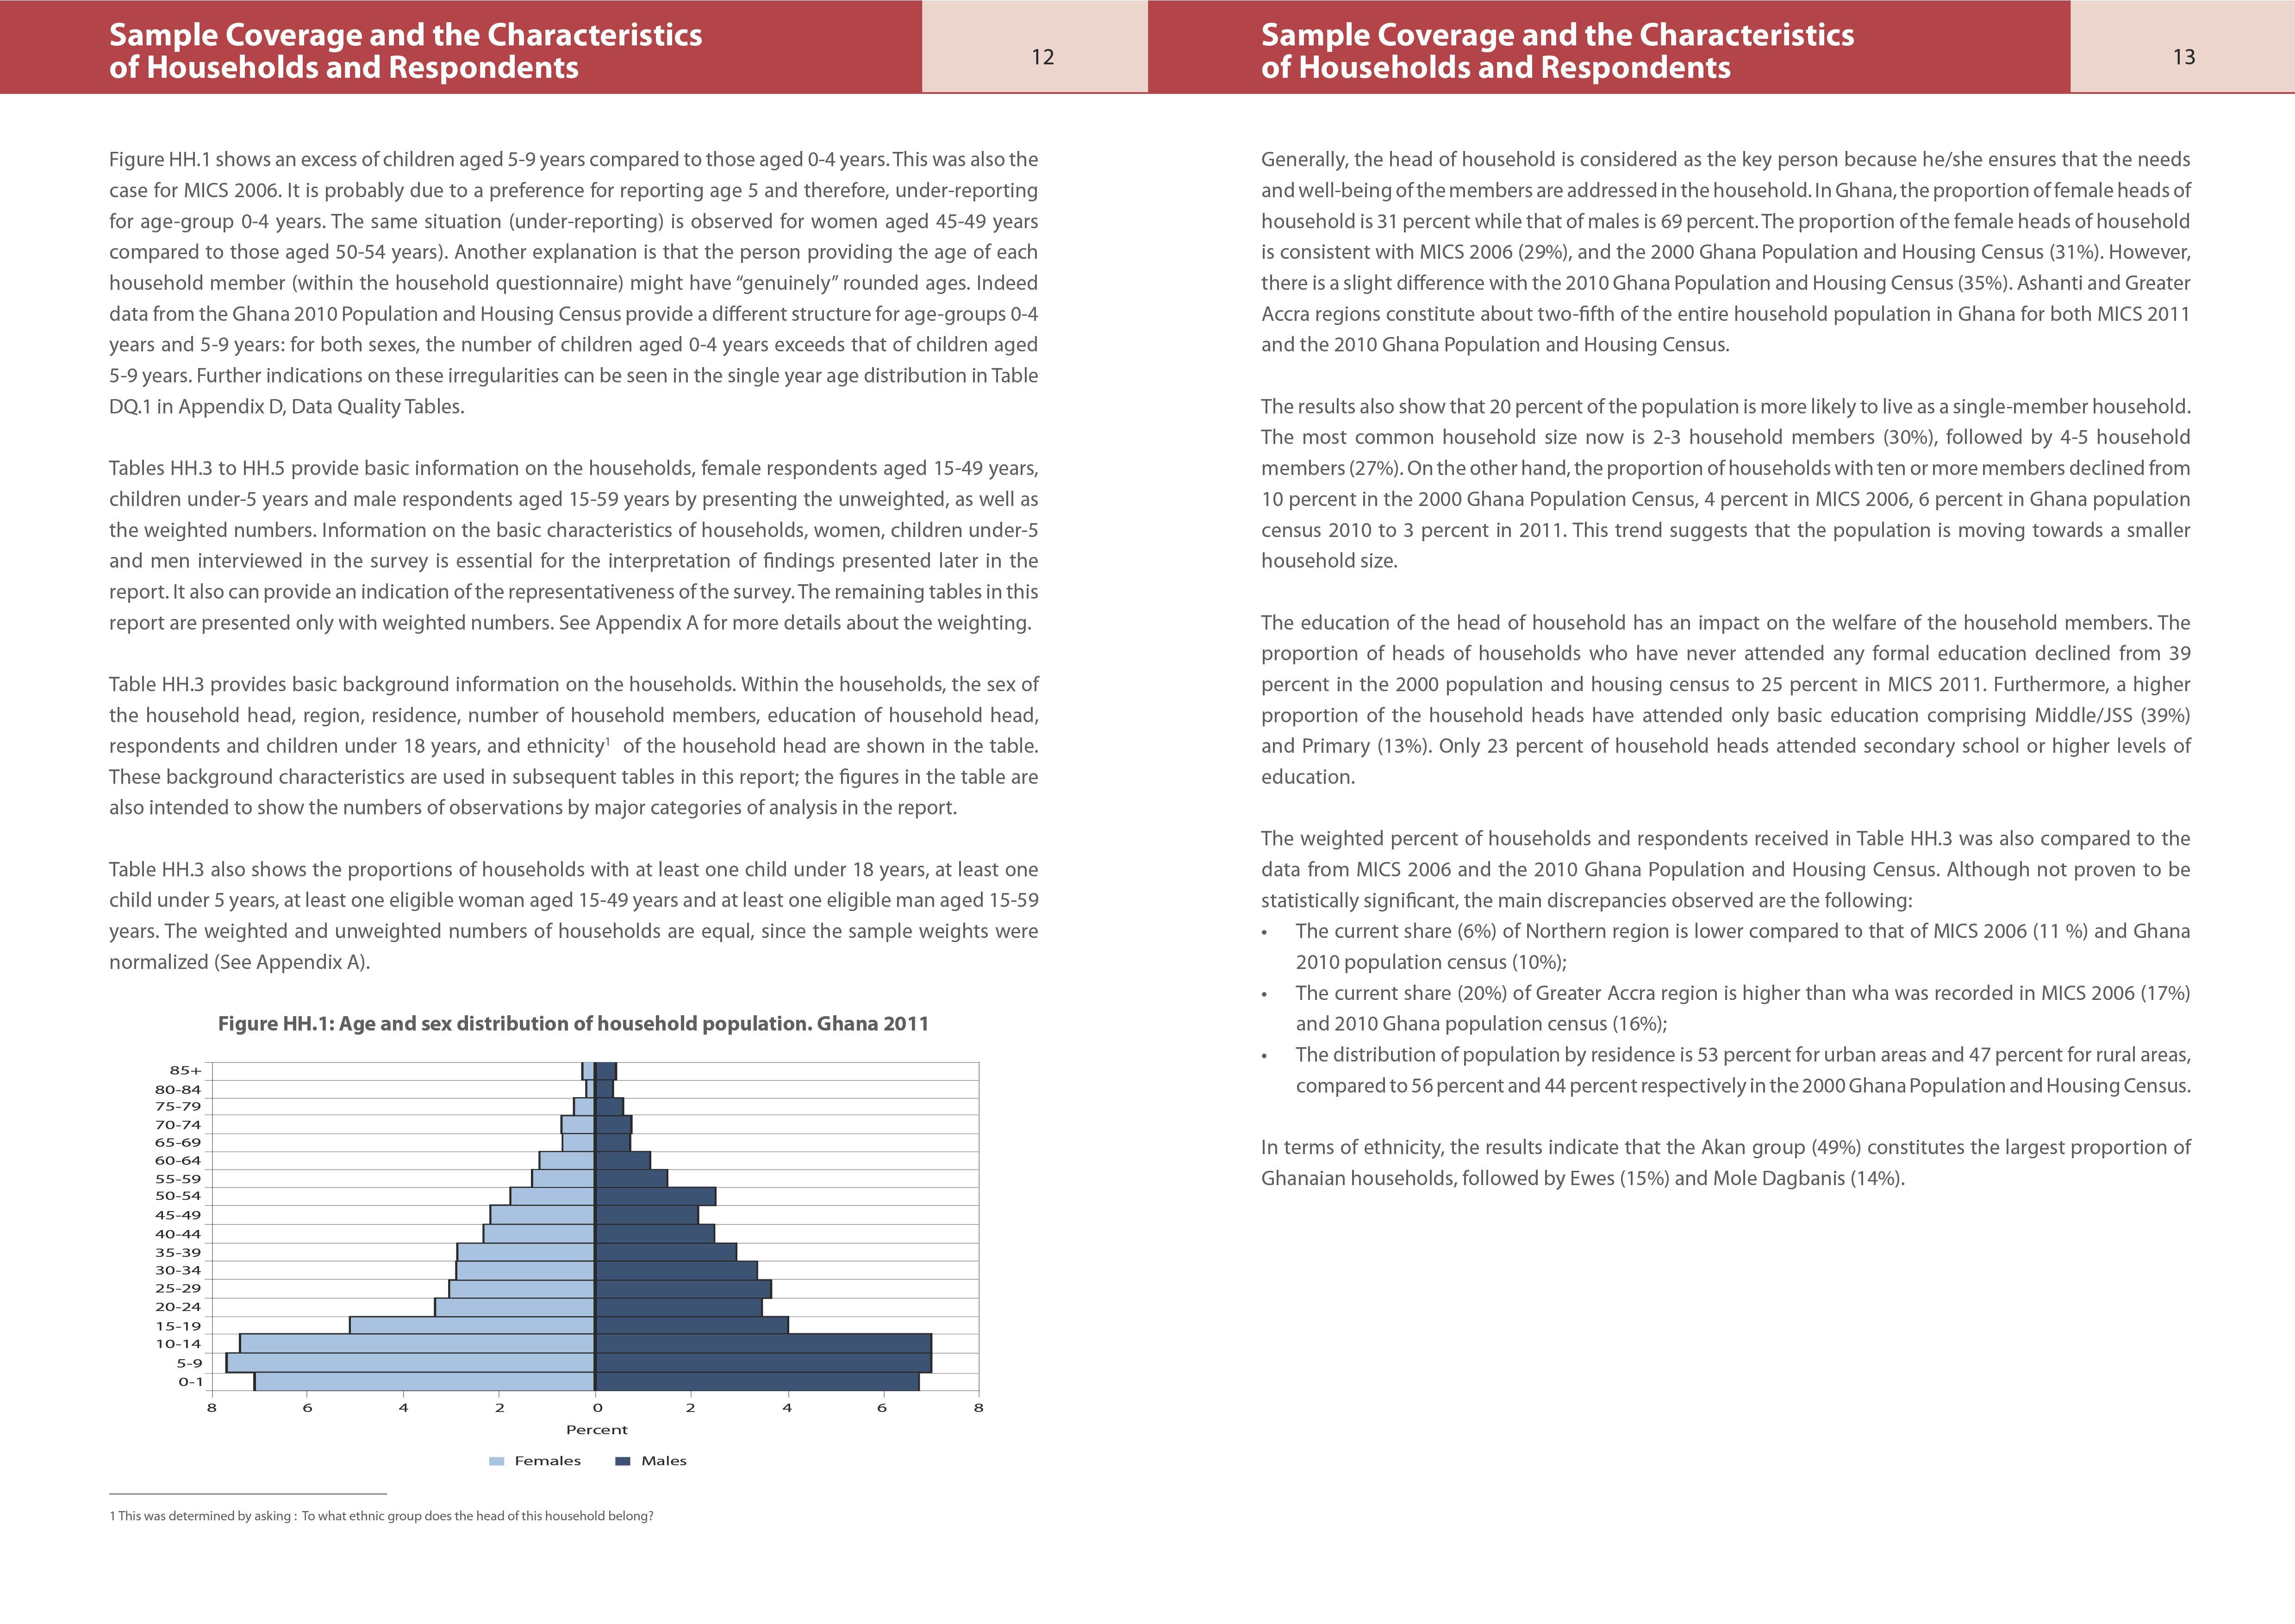caption: (207, 1005, 938, 1048)
figure: (141, 1065, 998, 1425)
list: (1255, 914, 2212, 1116)
section: (104, 2, 715, 93), (1246, 18, 1843, 93)
text: (102, 149, 1046, 420), (1253, 156, 2207, 359), (1253, 606, 2198, 801), (1249, 388, 2212, 568), (109, 453, 1047, 626), (91, 671, 1060, 824), (93, 859, 1060, 970), (1258, 831, 2186, 916), (1267, 1134, 2205, 1193)
